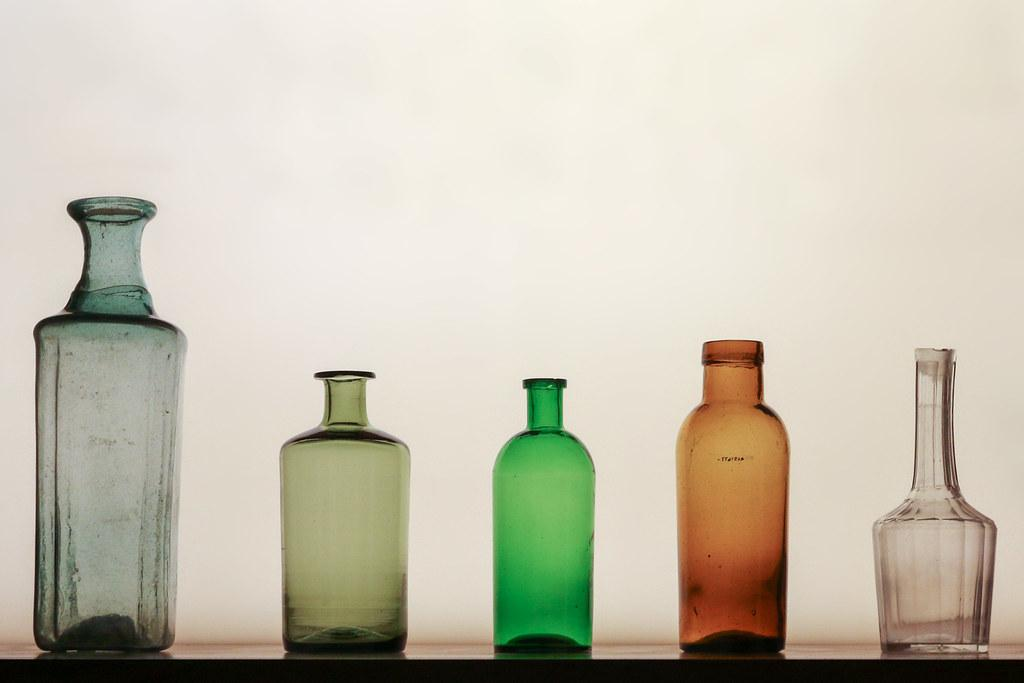bottle: (32, 195, 188, 653), (873, 347, 998, 655), (279, 370, 411, 654), (676, 339, 790, 655), (492, 378, 596, 653)
